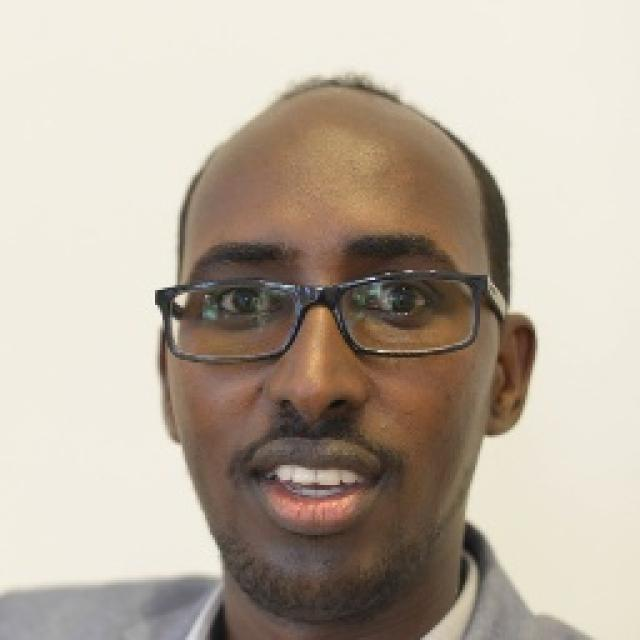glasses: (139, 262, 504, 372)
